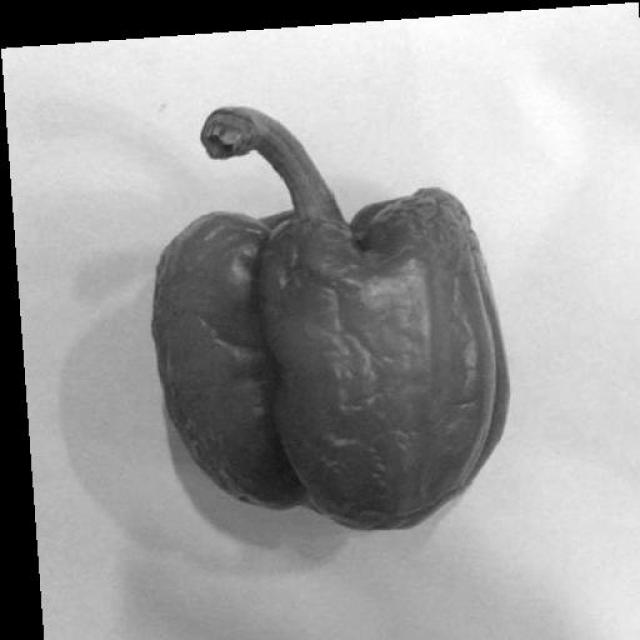Stale_Capsicum: (150, 107, 518, 541)
